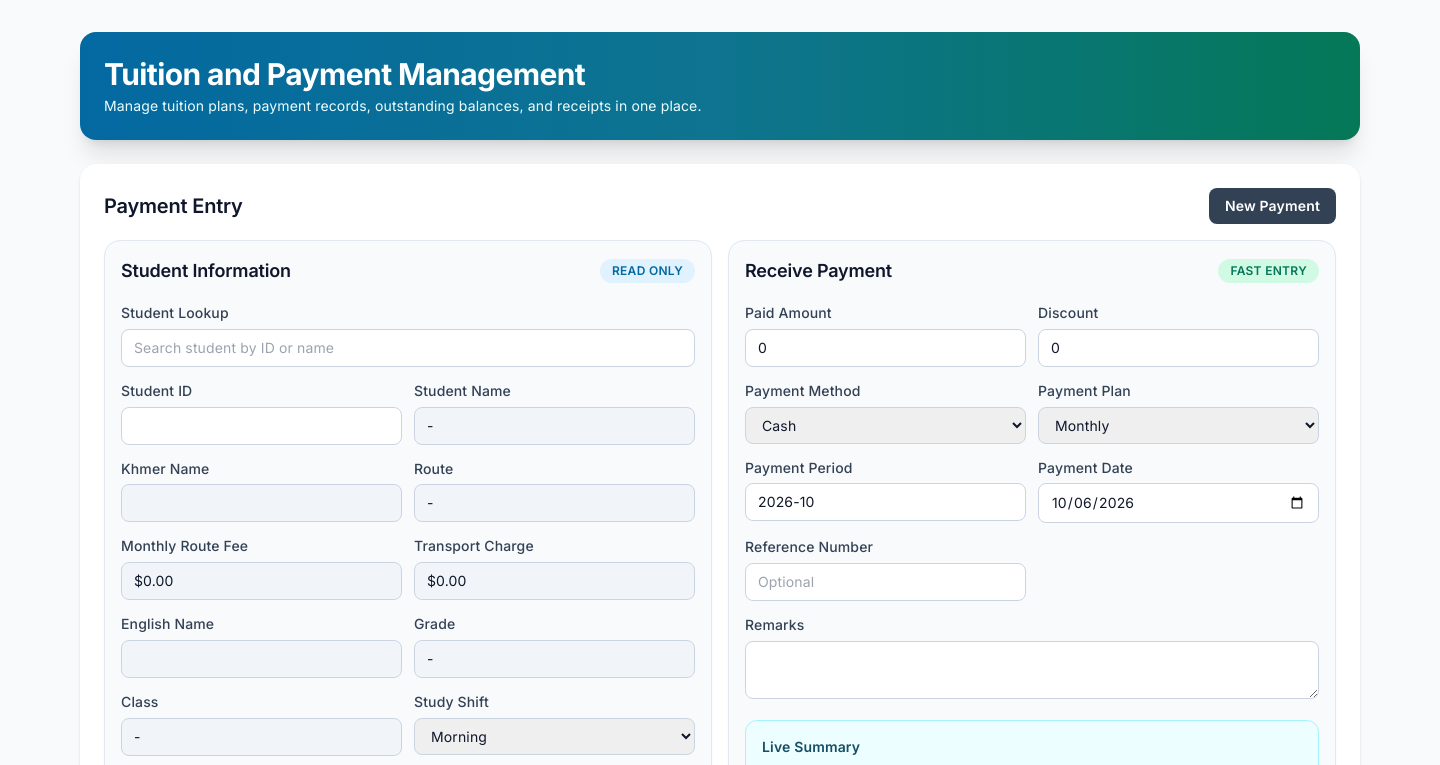
PaymentsPage success dialog › shows a success dialog with actions after creating a payment
The image size is (1440, 765).
Expected: the heading "Payment Entry" is shown, [104,192,243,220]
Expected: the heading "Receive Payment" is shown, [745,257,892,285]
In the field labelled "Student ID": (262, 426) [121,407,402,445], type "S001"
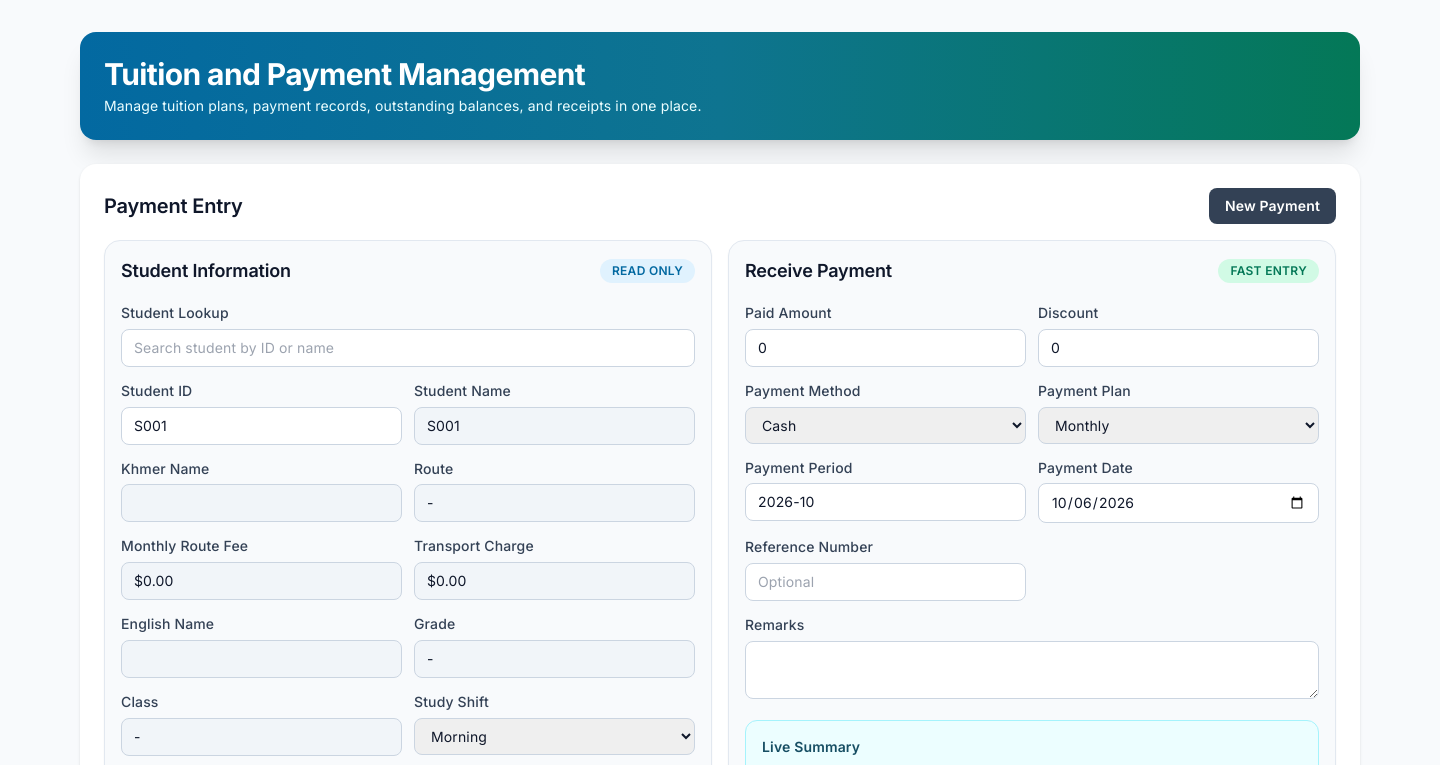
In the date field labelled "Payment Date": (1178, 503) [1038,483,1319,523], type "2025-01-15"
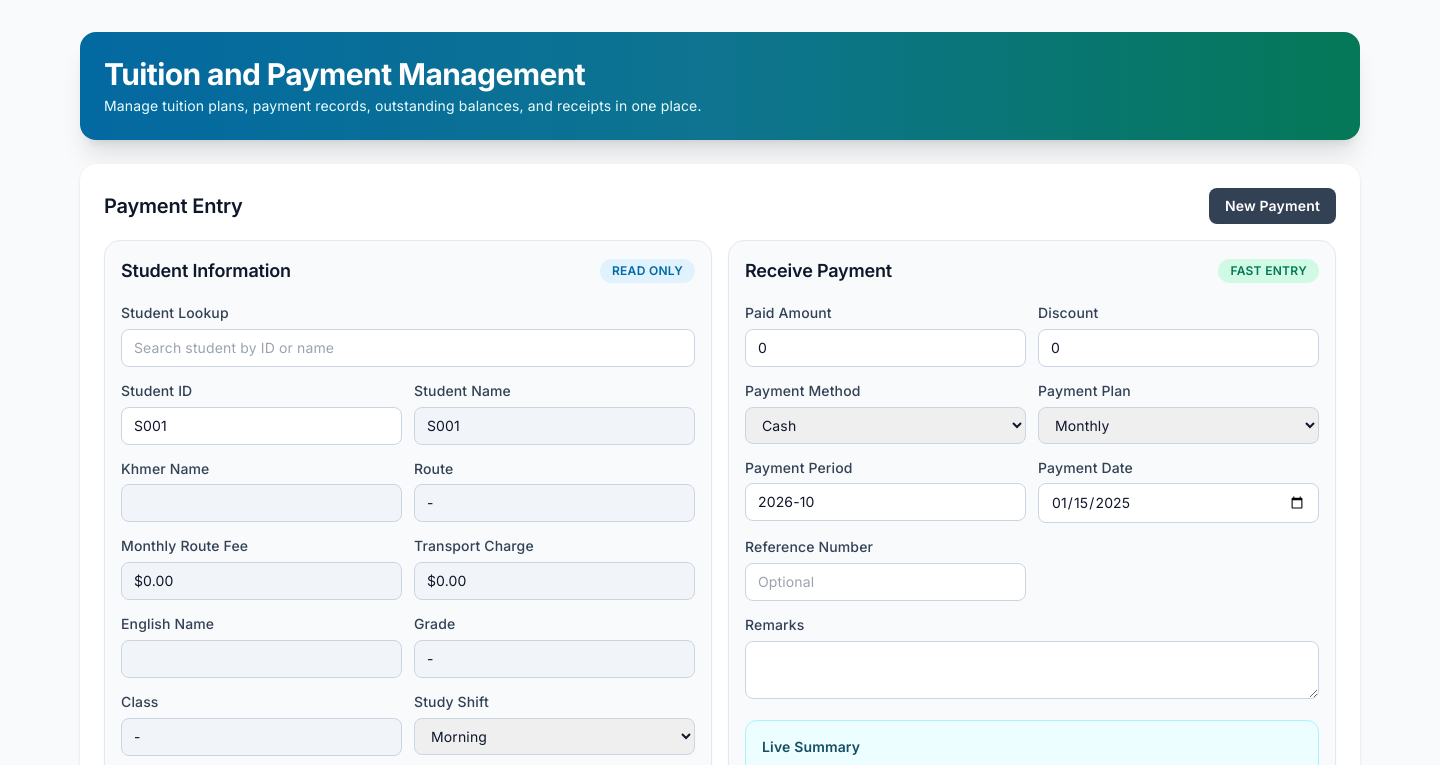
Replace the text in the number field labelled "Paid Amount" with "100": (886, 348) [745,329,1026,367]
(page scrolled)
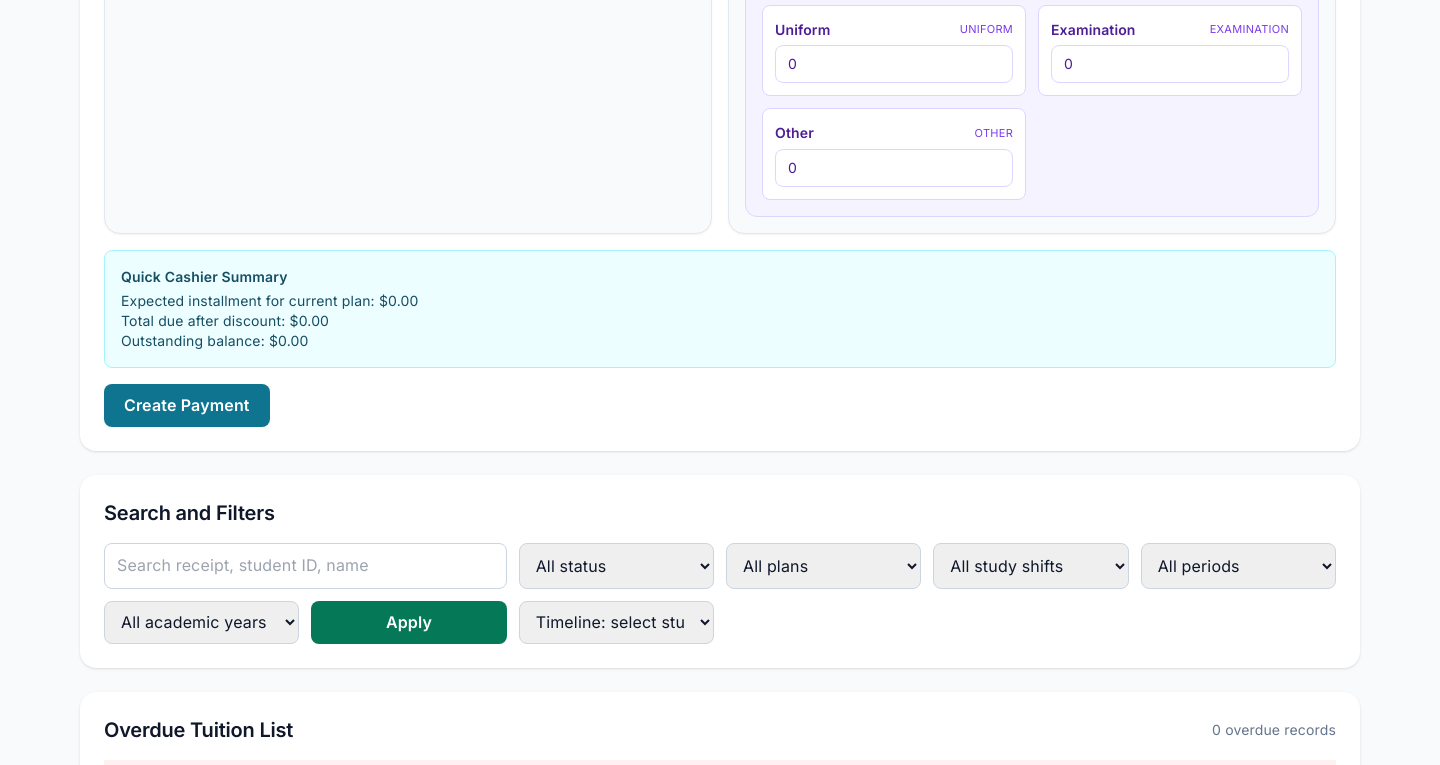
Click the button "Create Payment": (187, 406) [104,384,270,427]
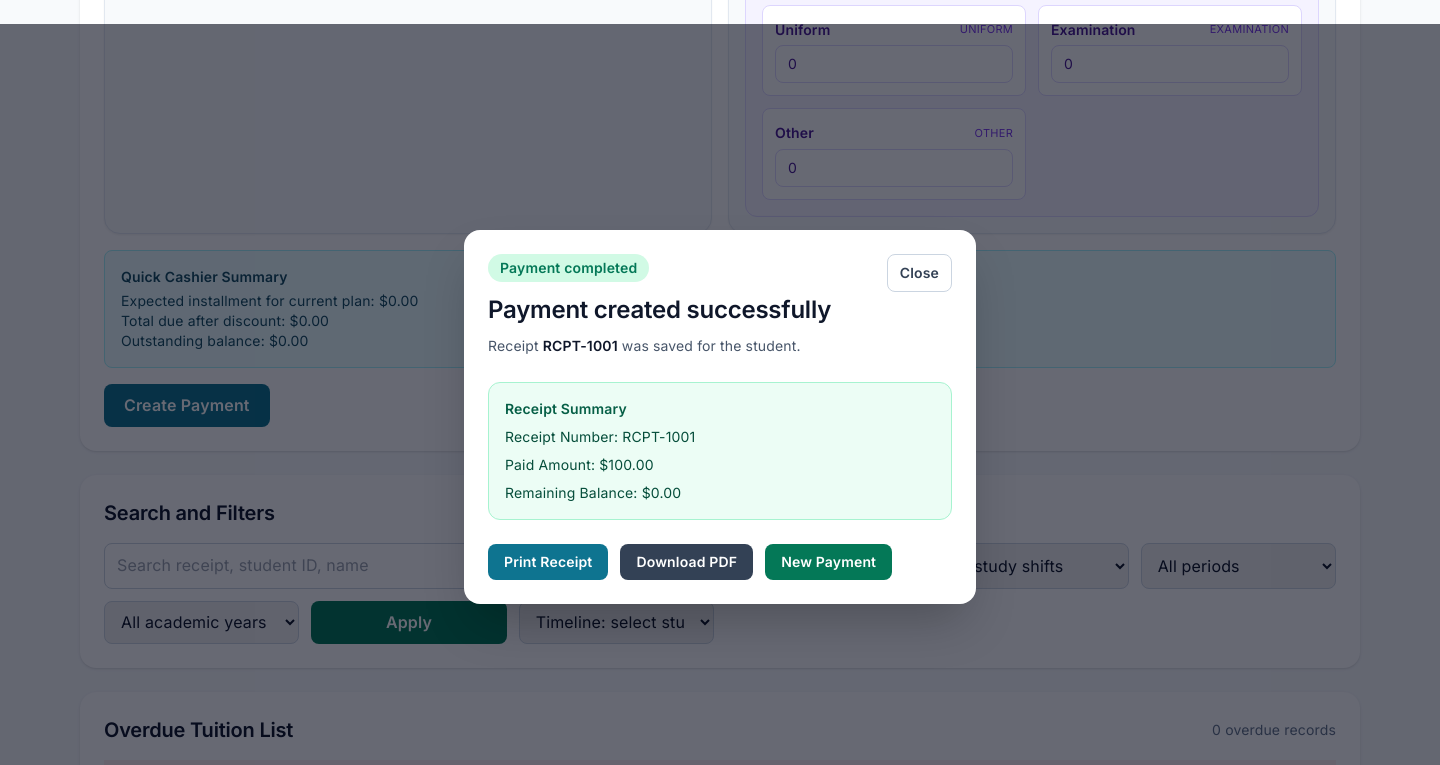
Now the heading "Payment created successfully" is shown, box [488,294,831,326]
Now the button "Print Receipt" is shown, box [488,544,608,580]
Now the button "Download PDF" is shown, box [620,544,753,580]
